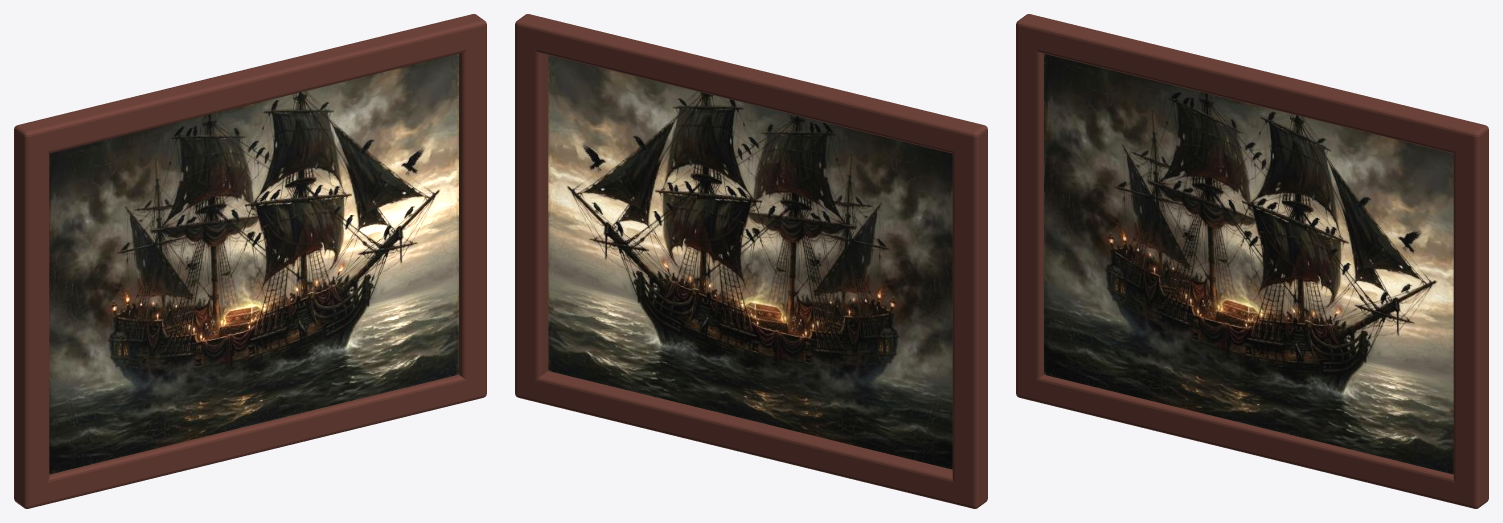
Rendered from art_funeral_ship.glb.
The picture shows the model from 3 angles, left to right: view 1: azimuth 30°, elevation 25°; view 2: azimuth 150°, elevation 25°; view 3: azimuth 330°, elevation 25°; orthographic projection.
Parts seen in each view (by area): view 1: GD_art_funeral_ship__m0, GD_art_funeral_ship__m1; view 2: GD_art_funeral_ship__m0, GD_art_funeral_ship__m1; view 3: GD_art_funeral_ship__m0, GD_art_funeral_ship__m1.
Boxes of the visible parts, left/top/right/bottom form: GD_art_funeral_ship__m0: left=49, top=53, right=458, bottom=474; GD_art_funeral_ship__m1: left=14, top=14, right=486, bottom=508; GD_art_funeral_ship__m0: left=548, top=55, right=952, bottom=469; GD_art_funeral_ship__m1: left=515, top=14, right=987, bottom=508; GD_art_funeral_ship__m0: left=1044, top=53, right=1453, bottom=474; GD_art_funeral_ship__m1: left=1016, top=14, right=1488, bottom=508.
Bounding box in the file's own units: 1.26 × 0.98 × 0.06.
Materials: 2 (1 with a texture image).
